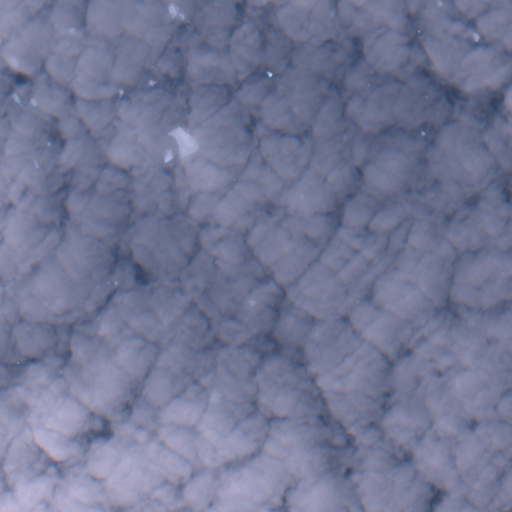Iceberg: (167, 127, 197, 157), (169, 2, 179, 18), (164, 150, 172, 162), (10, 57, 18, 66), (12, 93, 19, 102), (473, 33, 479, 42), (68, 28, 75, 34), (31, 98, 36, 106), (148, 80, 155, 85), (118, 89, 123, 96), (179, 14, 185, 19), (267, 71, 272, 77), (34, 161, 38, 168), (437, 0, 442, 5), (250, 300, 255, 305), (421, 130, 425, 135), (47, 142, 50, 146), (114, 281, 117, 284), (418, 30, 419, 32), (425, 96, 426, 97), (108, 282, 109, 283), (17, 362, 18, 363)
